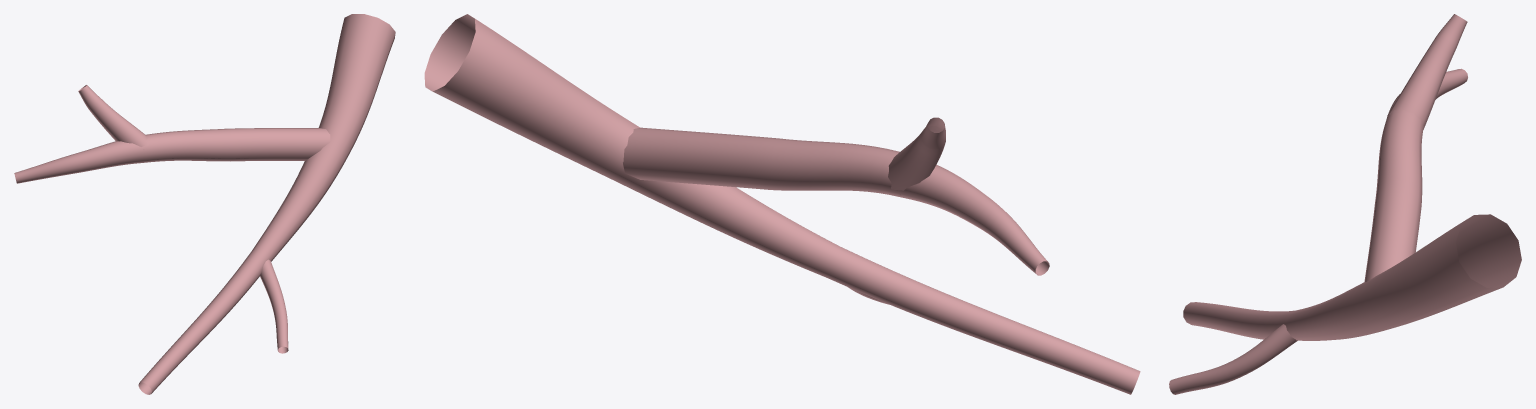
3 views of the same model, side by side, from view 1: azimuth 30°, elevation 25°; view 2: azimuth 150°, elevation 25°; view 3: azimuth 270°, elevation 25° (orthographic). The views are drawn at different scales.
Parts seen in each view (by area): view 1: ZA_5972f3c6284c441c; view 2: ZA_5972f3c6284c441c; view 3: ZA_5972f3c6284c441c.
Part boxes in pixels (left/top/right/bottom): ZA_5972f3c6284c441c: left=14, top=14, right=395, bottom=394; ZA_5972f3c6284c441c: left=424, top=14, right=1140, bottom=394; ZA_5972f3c6284c441c: left=1169, top=14, right=1521, bottom=394.
Bounding box in the file's own units: 0.0805 × 0.0468 × 0.0451.
